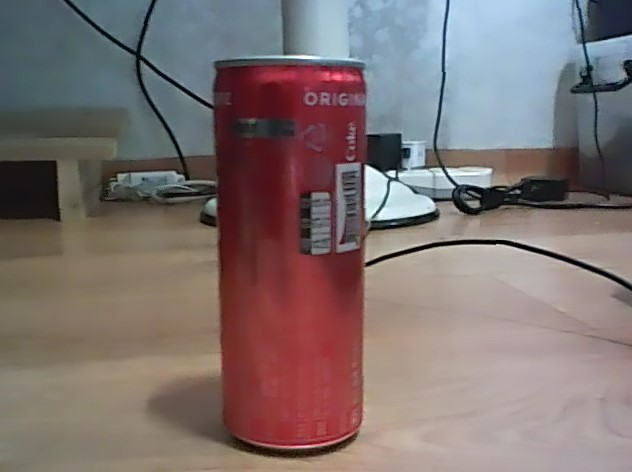Can: (205, 49, 367, 453)
